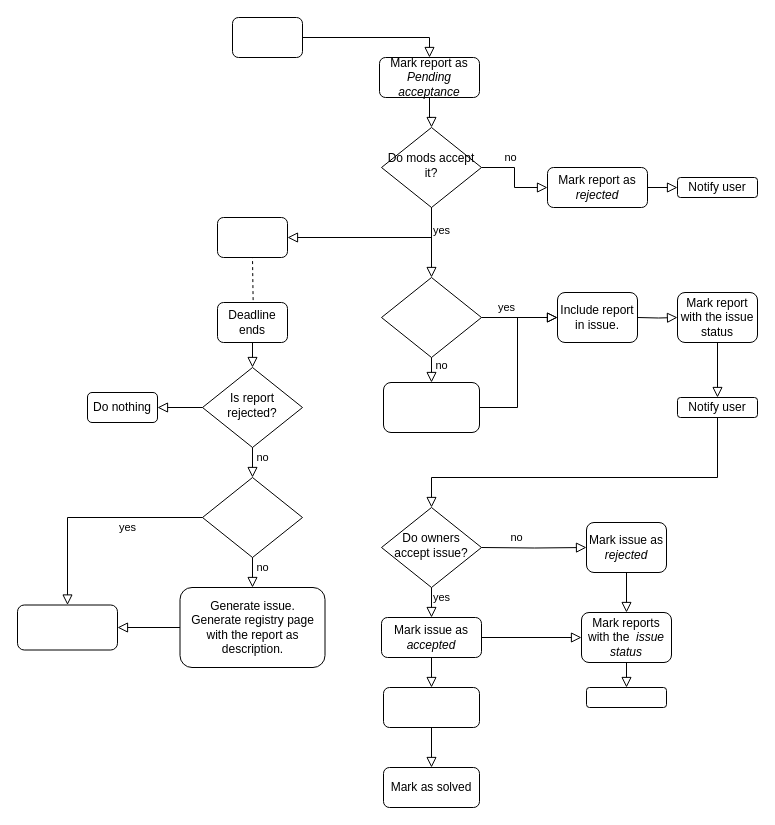
Some shapes in this 775 by 825 pixel diagram are drawn without their labels. Each missing label, with the centre of its shape:
"Create issue with pending review status" goes at point 431,407.
"Create registry entrance" goes at point 431,707.
"Generate deadline" goes at point 252,237.
"Is issue already created?" goes at point 431,317.
"Is report associated to issue?" goes at point 252,517.
"Notify users" goes at point 626,697.
"Publish advisory link to registry" goes at point 67,627.
"Report generated" goes at point 267,37.
